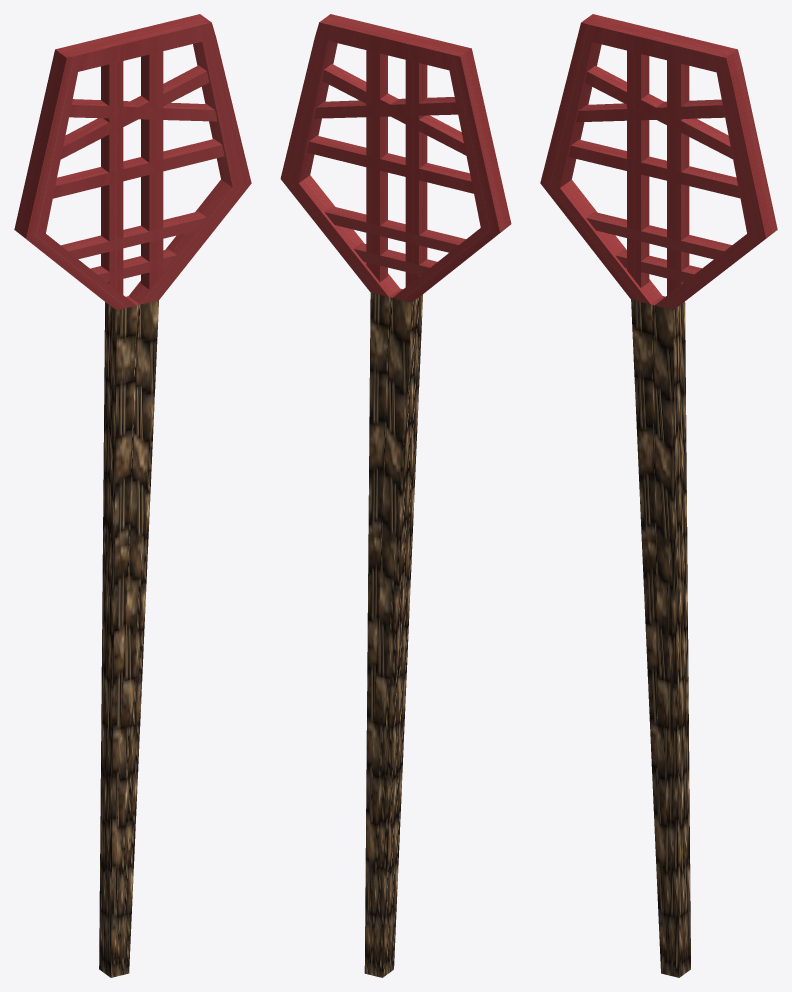
The model's file is scutcher.FBX.
3 renders of one model, left to right at view 1: azimuth 30°, elevation 25°; view 2: azimuth 150°, elevation 25°; view 3: azimuth 330°, elevation 25°, orthographic. The views are drawn at different scales.
Parts seen in each view (by area): view 1: Box001, Object001; view 2: Box001, Object001; view 3: Box001, Object001.
Part boxes in pixels (x1,y1,x2,y2): Box001: (14, 14, 251, 310); Object001: (99, 300, 158, 977); Box001: (280, 14, 511, 302); Object001: (364, 292, 422, 977); Box001: (540, 14, 777, 309); Object001: (631, 299, 690, 977).
Size of the model in its own units: 18.3 by 73.52 by 4.17.
Materials: 2 (2 with a texture image).
